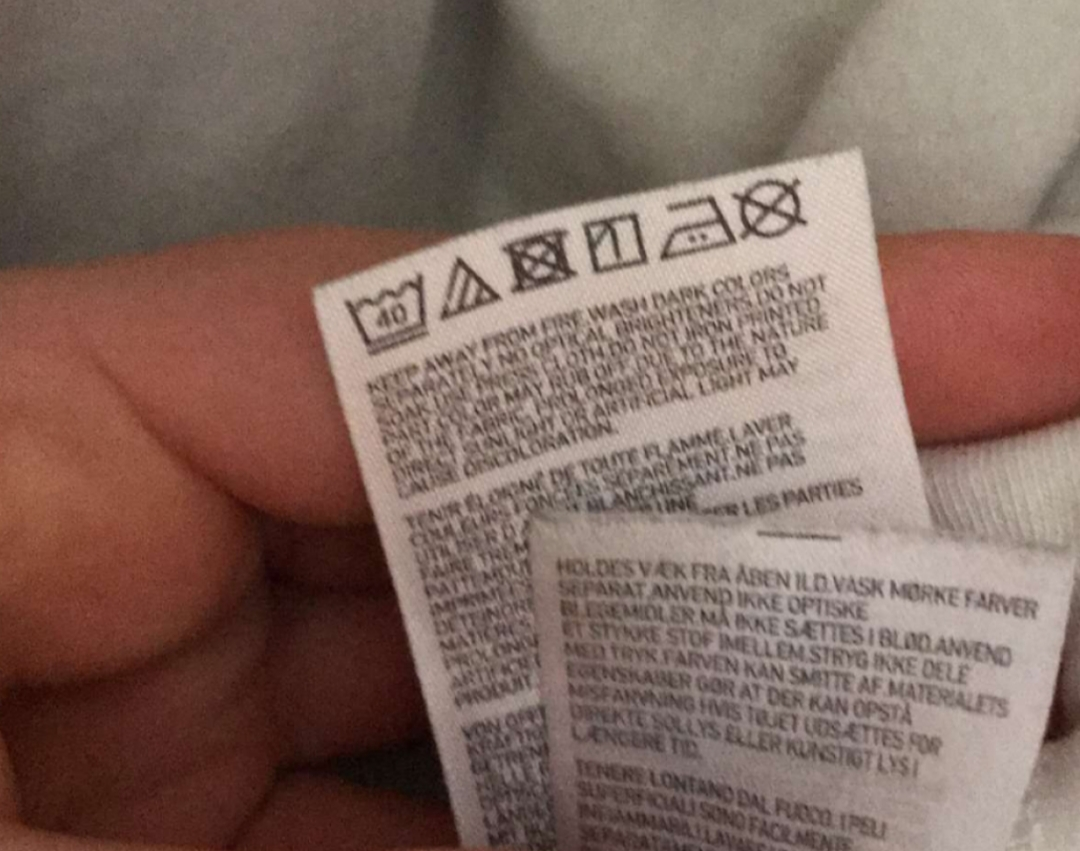do not dry clean: (729, 179, 833, 239)
do not tumble dry: (488, 228, 589, 293)
drip dry: (578, 215, 651, 280)
iron medium temp: (642, 191, 741, 262)
non-chlorine bleach: (431, 252, 511, 328)
wash at or below 40: (342, 272, 440, 357)
